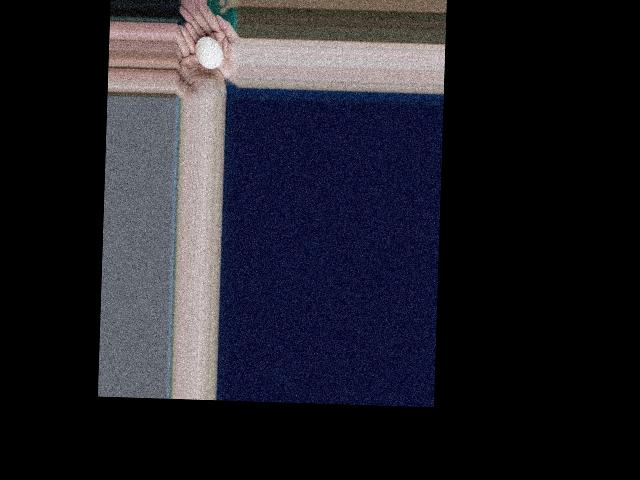egg: (194, 36, 223, 68)
